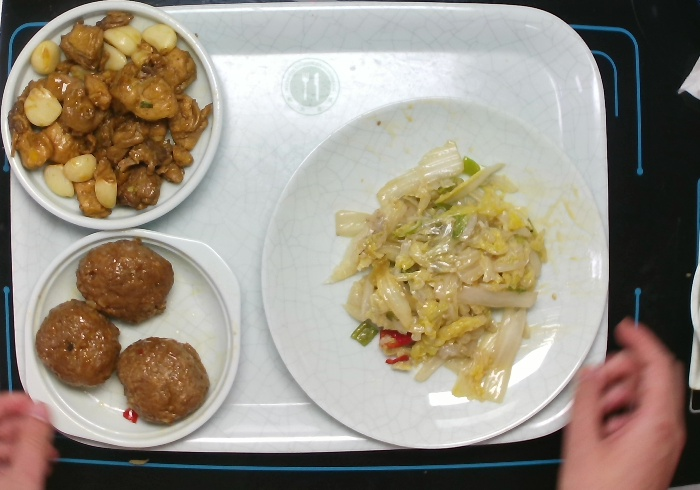JYsf-Da_Yuan_Pan: (254, 89, 612, 457)
JYsf-Shuang_Er_Pan: (19, 227, 250, 453)
JYsf-Xiao_Yuan_Pan: (2, 4, 228, 234)
